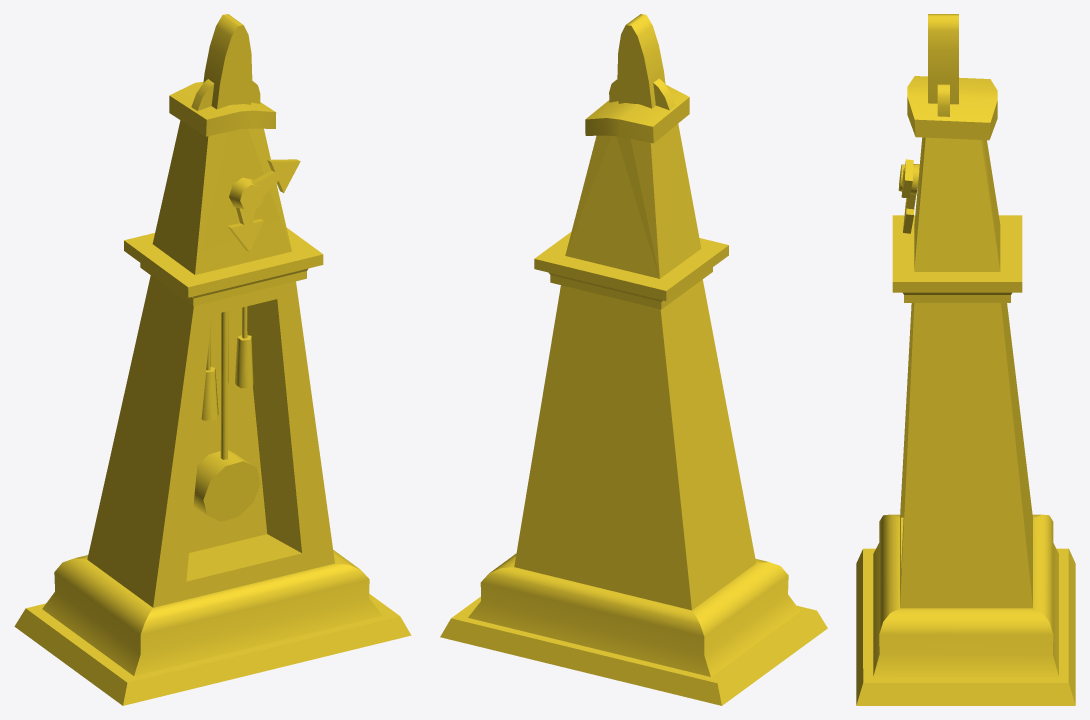
File: GranfatherClock.FBX
The picture shows the model from 3 angles, left to right: view 1: azimuth 30°, elevation 25°; view 2: azimuth 150°, elevation 25°; view 3: azimuth 270°, elevation 25°; orthographic projection. The views are drawn at different scales.
Visible parts, largest first — view 1: GrandfatherClock; view 2: GrandfatherClock; view 3: GrandfatherClock.
Boxes of the visible parts, x1=… form: GrandfatherClock: x1=14, y1=14, x2=411, y2=705; GrandfatherClock: x1=440, y1=14, x2=827, y2=705; GrandfatherClock: x1=856, y1=14, x2=1075, y2=705.
Size of the model in its own units: 118 by 242 by 77.15.
